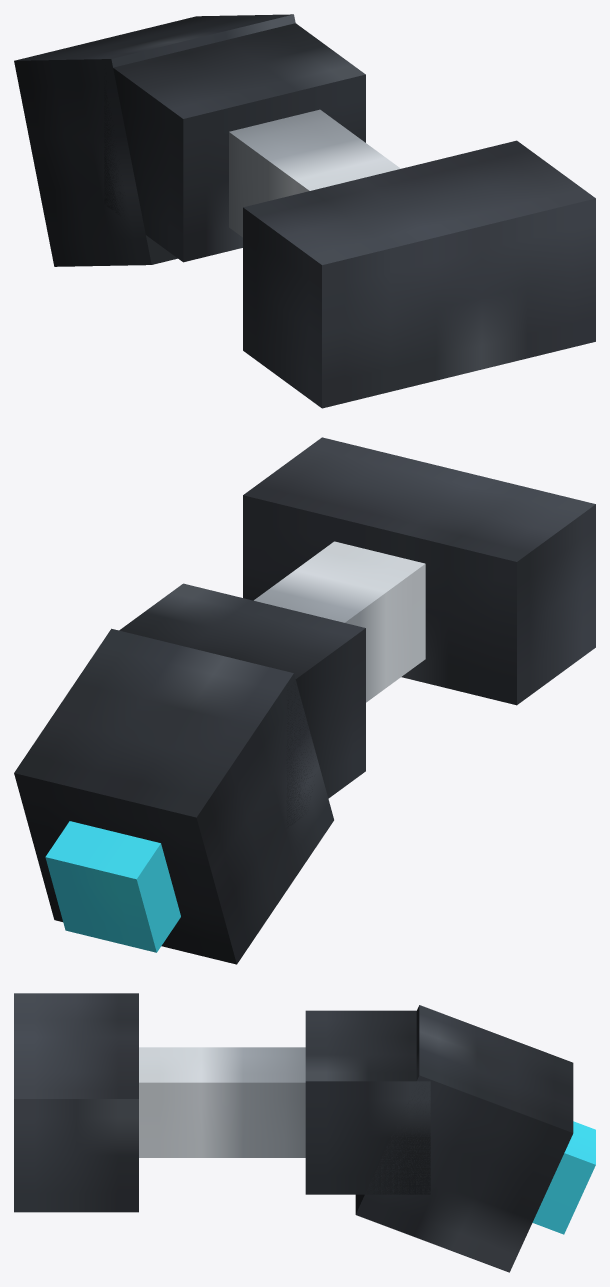
File: loadout_station_arm_b.obj
The picture shows the model from 3 angles, top to bottom: view 1: azimuth 30°, elevation 25°; view 2: azimuth 150°, elevation 25°; view 3: azimuth 270°, elevation 25°; orthographic projection. The views are drawn at different scales.
Visible parts, largest first — view 1: loadout_station_arm_b_Hub, loadout_station_arm_b_Elbow, loadout_station_arm_b_Forearm, loadout_station_arm_b_Link; view 2: loadout_station_arm_b_Forearm, loadout_station_arm_b_Hub, loadout_station_arm_b_Elbow, loadout_station_arm_b_Link, loadout_station_arm_b_Emitter; view 3: loadout_station_arm_b_Forearm, loadout_station_arm_b_Hub, loadout_station_arm_b_Elbow, loadout_station_arm_b_Link, loadout_station_arm_b_Emitter.
Part boxes in pixels (x1,y1,x2,y2): loadout_station_arm_b_Hub: (243,140,595,408); loadout_station_arm_b_Elbow: (104,23,365,262); loadout_station_arm_b_Forearm: (14,14,295,266); loadout_station_arm_b_Link: (229,109,400,237); loadout_station_arm_b_Forearm: (14,628,333,964); loadout_station_arm_b_Hub: (243,437,595,705); loadout_station_arm_b_Elbow: (119,583,365,827); loadout_station_arm_b_Link: (254,541,425,702); loadout_station_arm_b_Emitter: (45,821,180,952); loadout_station_arm_b_Forearm: (355,1005,573,1272); loadout_station_arm_b_Hub: (14,993,138,1212); loadout_station_arm_b_Elbow: (305,1010,430,1194); loadout_station_arm_b_Link: (139,1047,305,1157); loadout_station_arm_b_Emitter: (532,1121,595,1234).
Bounding box in the file's own units: 0.1875 × 0.1633 × 0.4364.
